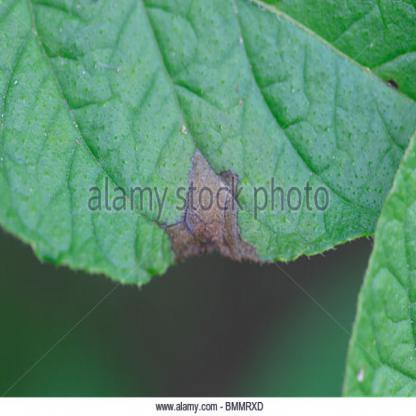Potato leaf late blight: (0, 1, 413, 288)
